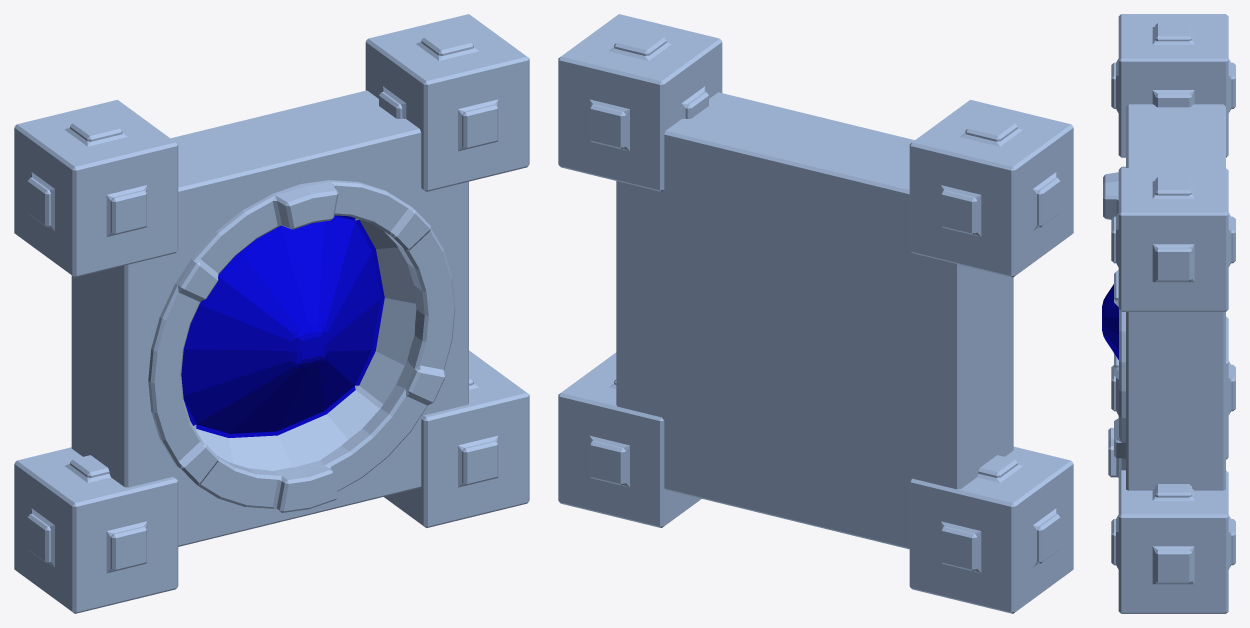
The model's file is portal.fbx.
3 views of the same model, side by side, from view 1: azimuth 30°, elevation 25°; view 2: azimuth 150°, elevation 25°; view 3: azimuth 270°, elevation 25° (orthographic). The views are drawn at different scales.
Parts seen in each view (by area): view 1: Portal; view 2: Portal; view 3: Portal.
Part boxes in pixels (x1,y1,x2,y2): Portal: (14, 14, 529, 613); Portal: (558, 14, 1073, 613); Portal: (1102, 14, 1235, 613).
Size of the model in its own units: 672 by 629 by 184.
